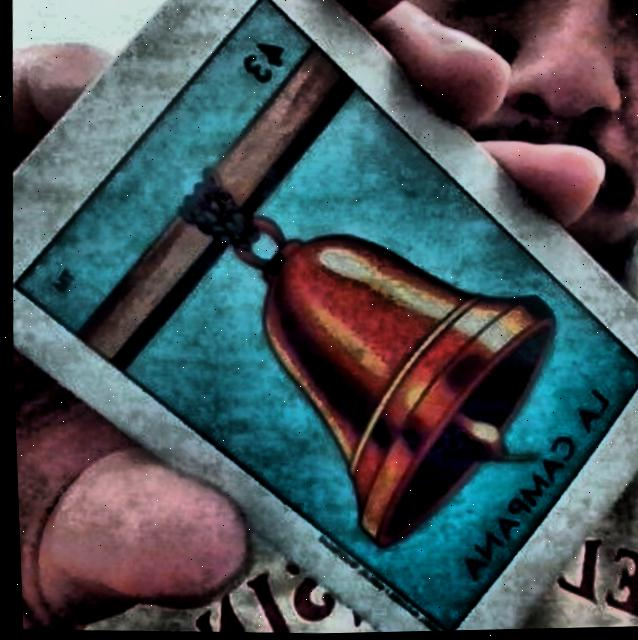La Campana: (15, 0, 638, 633)
